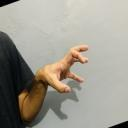hand: (33, 45, 90, 94)
